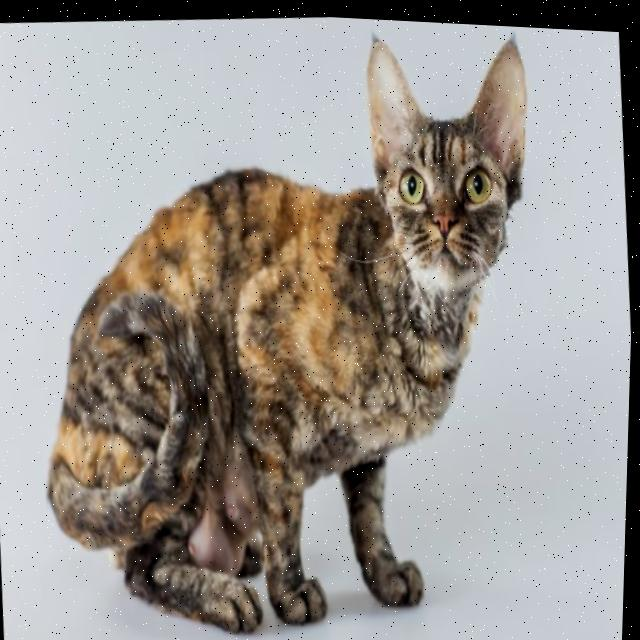Cornish Rex: (7, 2, 571, 640)
